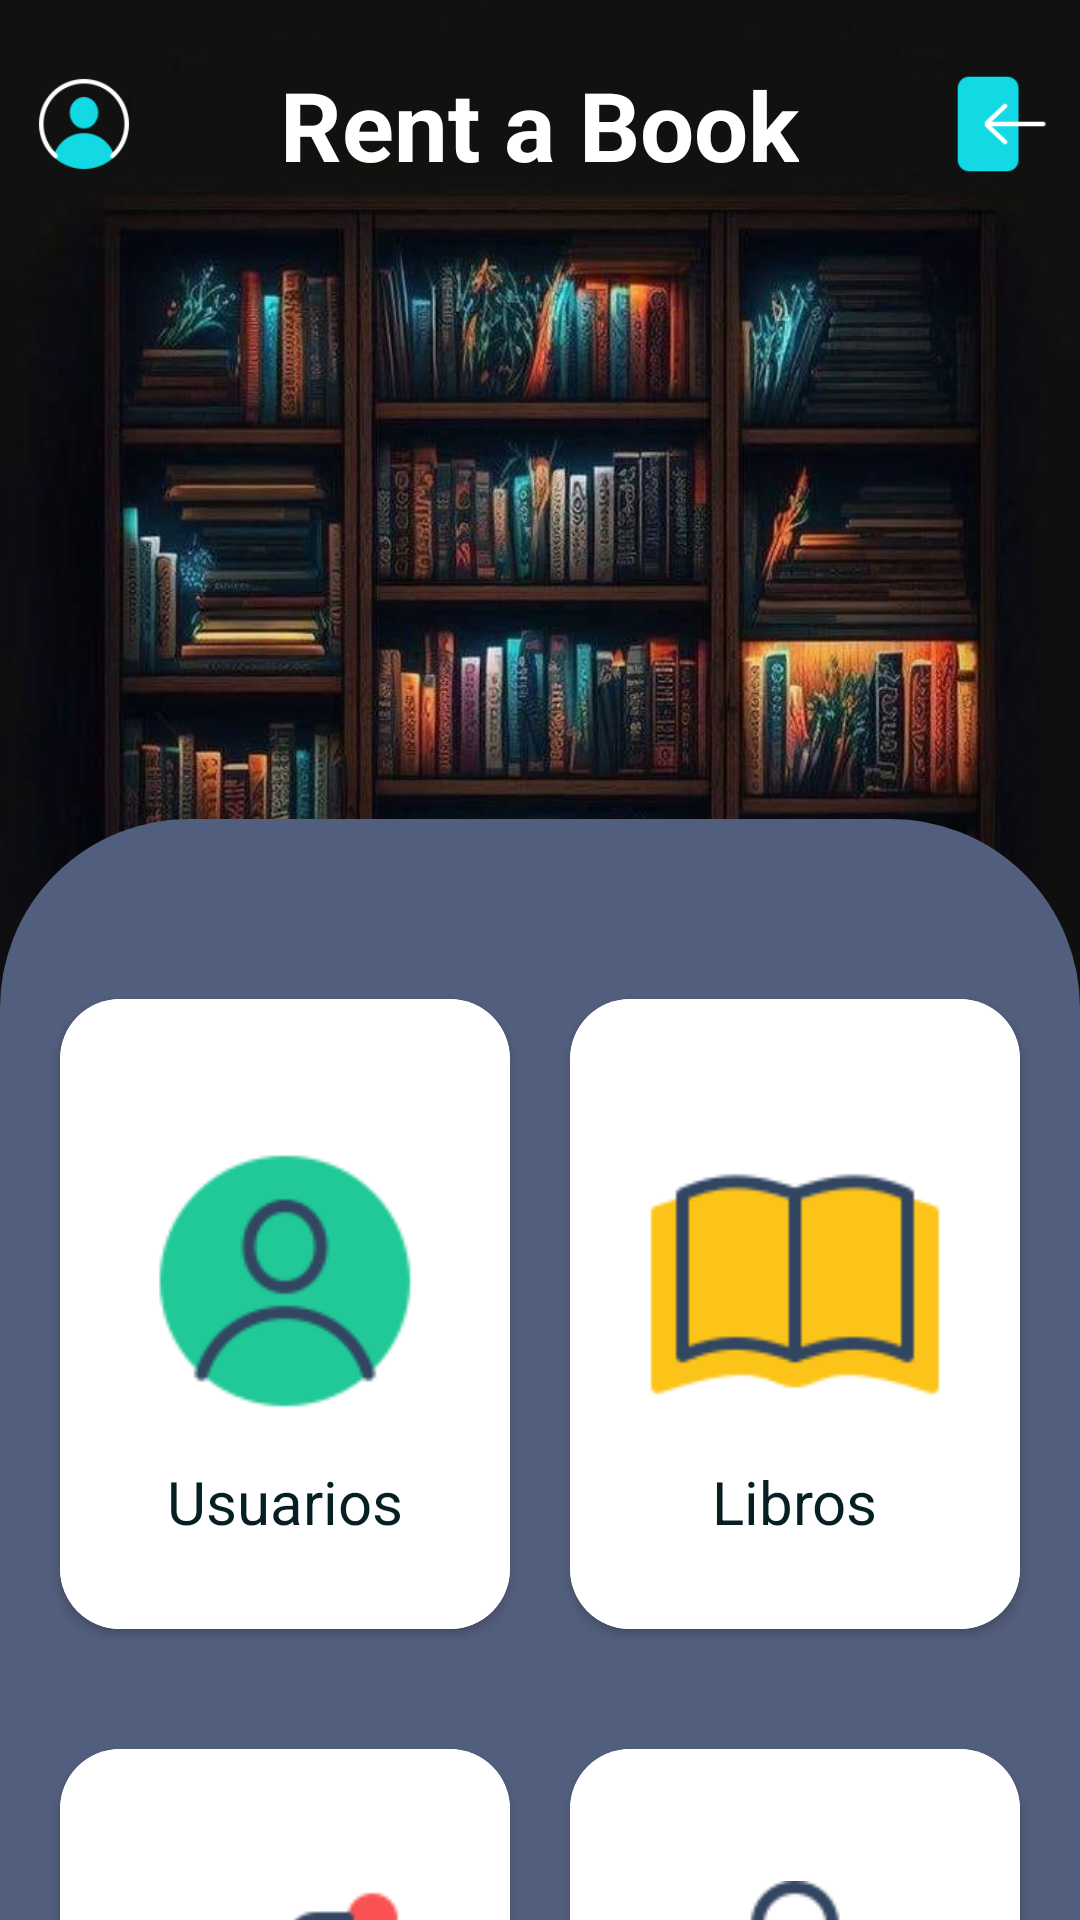

Screen size 1080 × 1920. Icon name, then its center in pixels as (x=x, y=y):
cuenta: (x=84, y=124)
